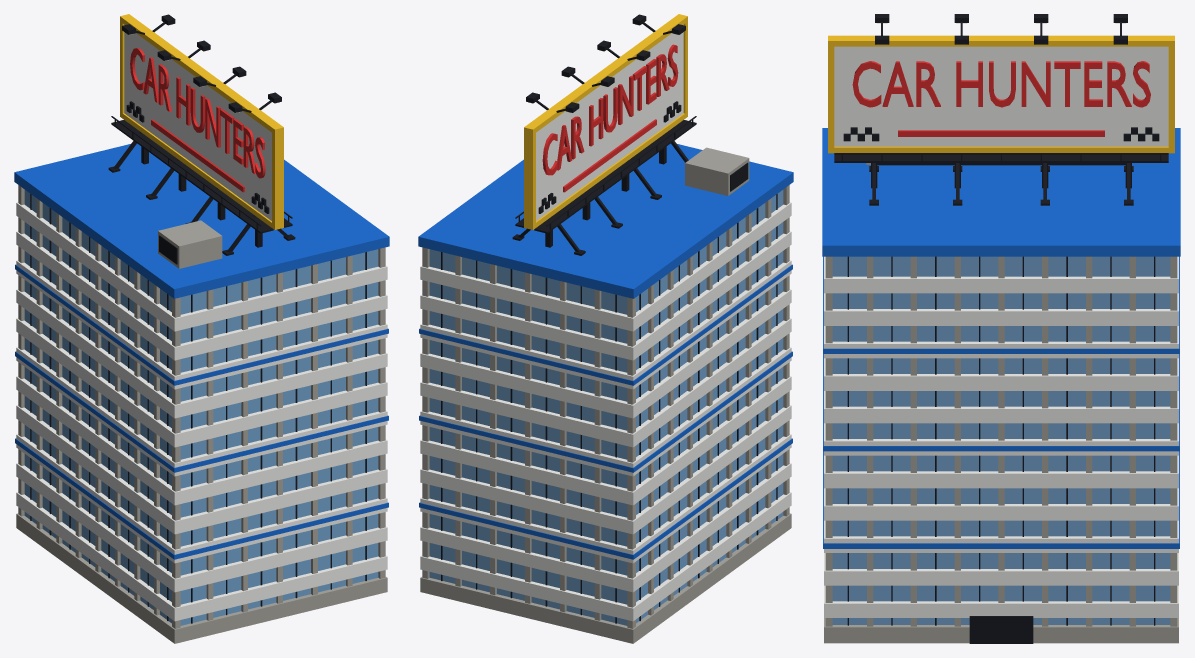
Rendered from Skyline_Billboard.fbx.
3 views of the same model, side by side, from view 1: azimuth 30°, elevation 25°; view 2: azimuth 150°, elevation 25°; view 3: azimuth 270°, elevation 25° (orthographic). The views are drawn at different scales.
Visible parts, largest first — view 1: White.004, Window.005, Blue.001, Concrete.003, Dark.005, Yellow.001, Red.001; view 2: White.004, Window.005, Blue.001, Concrete.003, Dark.005, Yellow.001, Red.001; view 3: White.004, Window.005, Blue.001, Concrete.003, Dark.005, Yellow.001, Red.001.
Part boxes in pixels (left/top/right/bottom): White.004: left=16, top=25, right=387, bottom=621; Window.005: left=24, top=190, right=378, bottom=625; Blue.001: left=14, top=143, right=389, bottom=559; Concrete.003: left=16, top=185, right=387, bottom=643; Dark.005: left=30, top=14, right=366, bottom=623; Yellow.001: left=120, top=14, right=283, bottom=229; Red.001: left=130, top=48, right=265, bottom=192; White.004: left=420, top=25, right=791, bottom=621; Window.005: left=429, top=190, right=783, bottom=625; Blue.001: left=418, top=143, right=793, bottom=559; Concrete.003: left=420, top=147, right=791, bottom=643; Dark.005: left=441, top=14, right=777, bottom=623; Yellow.001: left=524, top=14, right=687, bottom=229; Red.001: left=542, top=44, right=678, bottom=192; White.004: left=824, top=46, right=1178, bottom=617; Window.005: left=832, top=256, right=1170, bottom=624; Blue.001: left=822, top=128, right=1180, bottom=548; Concrete.003: left=824, top=163, right=1178, bottom=643; Dark.005: left=834, top=14, right=1168, bottom=643; Yellow.001: left=828, top=35, right=1174, bottom=153; Red.001: left=852, top=61, right=1150, bottom=136.
Size of the model in its own units: 35 by 77.4 by 45.
